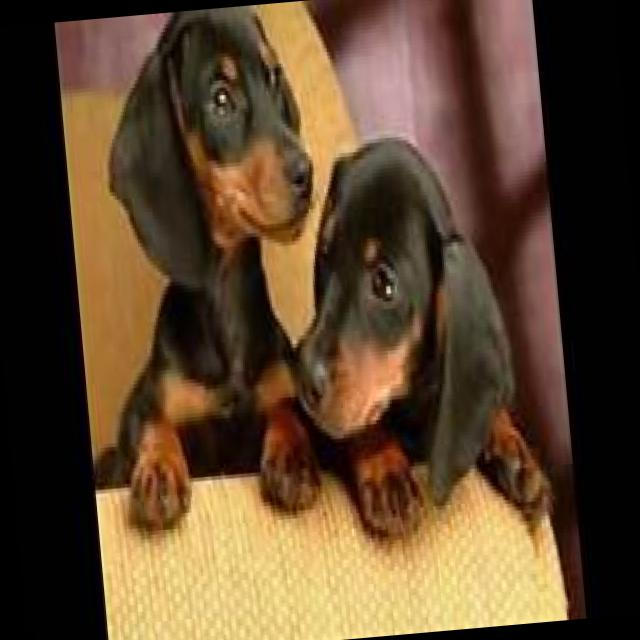animal: (57, 2, 340, 524), (272, 128, 554, 532)
